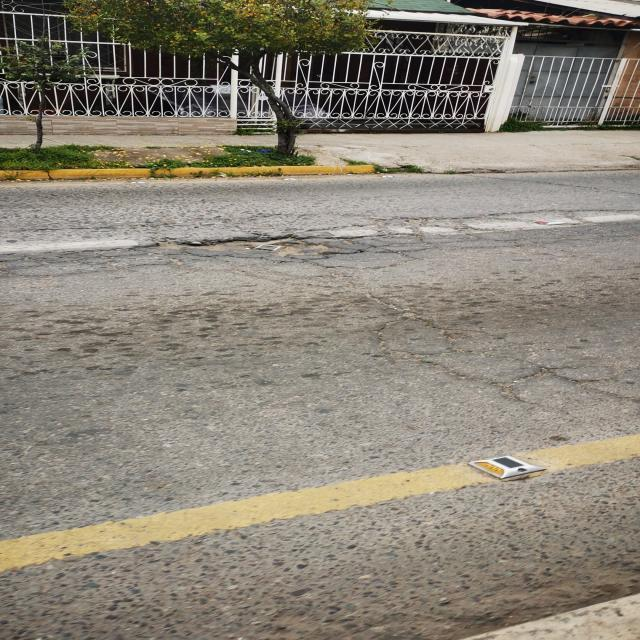PIEL DE COCODRILO: (372, 313, 639, 415), (129, 215, 597, 273)
